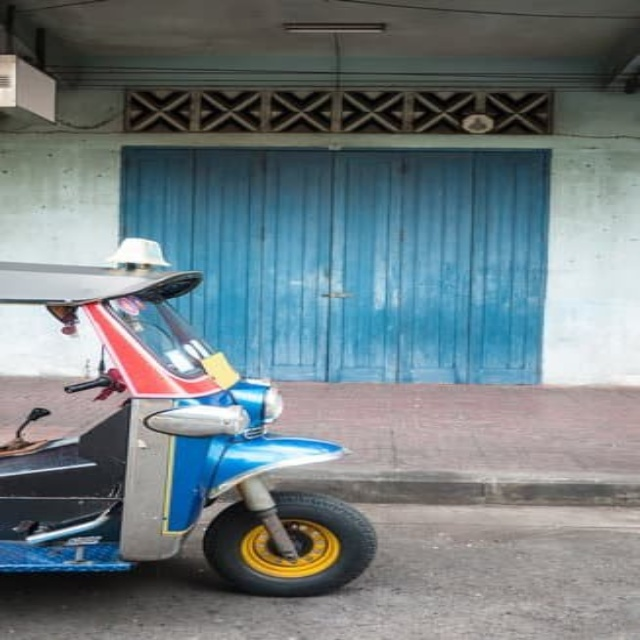Motorcycle: (2, 236, 378, 598)
